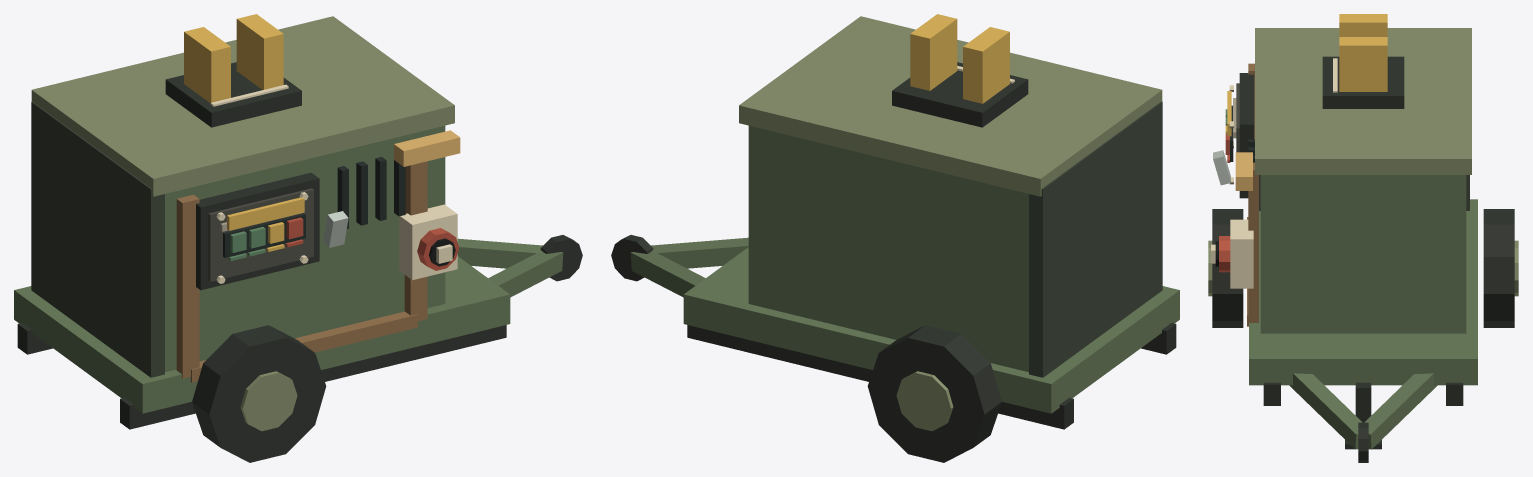
The model's file is lwf_towable_generator_overloaded_v1.glb.
The picture shows the model from 3 angles, left to right: view 1: azimuth 30°, elevation 25°; view 2: azimuth 150°, elevation 25°; view 3: azimuth 270°, elevation 25°; orthographic projection. The views are drawn at different scales.
Parts seen in each view (by area): view 1: LWF_Generator_Base, LWF_Generator_State_Overloaded; view 2: LWF_Generator_Base, LWF_Generator_State_Overloaded; view 3: LWF_Generator_Base, LWF_Generator_State_Overloaded.
Part boxes in pixels (<box>): LWF_Generator_Base: <box>14,16,582,462</box>; LWF_Generator_State_Overloaded: <box>165,14,348,252</box>; LWF_Generator_Base: <box>611,16,1179,462</box>; LWF_Generator_State_Overloaded: <box>892,14,1028,127</box>; LWF_Generator_Base: <box>1208,28,1518,462</box>; LWF_Generator_State_Overloaded: <box>1213,14,1404,185</box>.
Bounding box in the file's own units: 2.68 × 1.79 × 1.6.
1 material, 1 textured.
